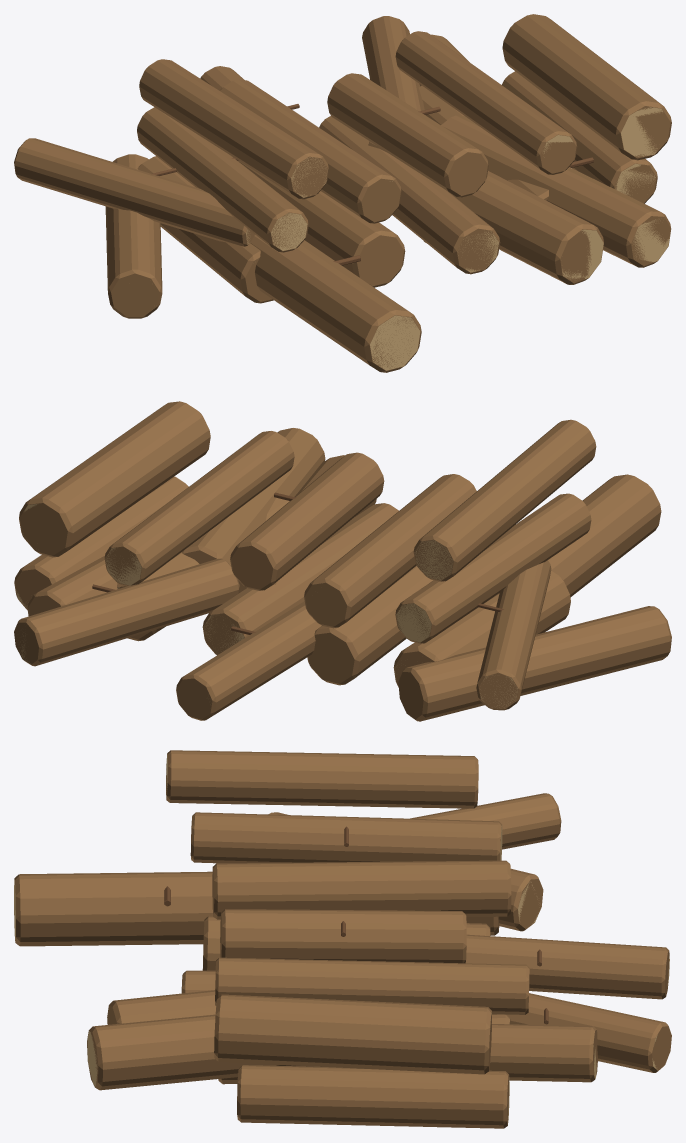
Rendered from runtime.glb.
3 renders of one model, top to bottom at view 1: azimuth 30°, elevation 25°; view 2: azimuth 150°, elevation 25°; view 3: azimuth 270°, elevation 25°, orthographic. The views are drawn at different scales.
Parts seen in each view (by area): view 1: falkenwacht-woodpile-v10_nocol; view 2: falkenwacht-woodpile-v10_nocol; view 3: falkenwacht-woodpile-v10_nocol.
Boxes of the visible parts, x1,y1,x2,y2 form: falkenwacht-woodpile-v10_nocol: (14,14,671,372); falkenwacht-woodpile-v10_nocol: (14,401,671,721); falkenwacht-woodpile-v10_nocol: (14,750,671,1128).
Bounding box in the file's own units: 3.04 × 0.9409 × 2.96.
